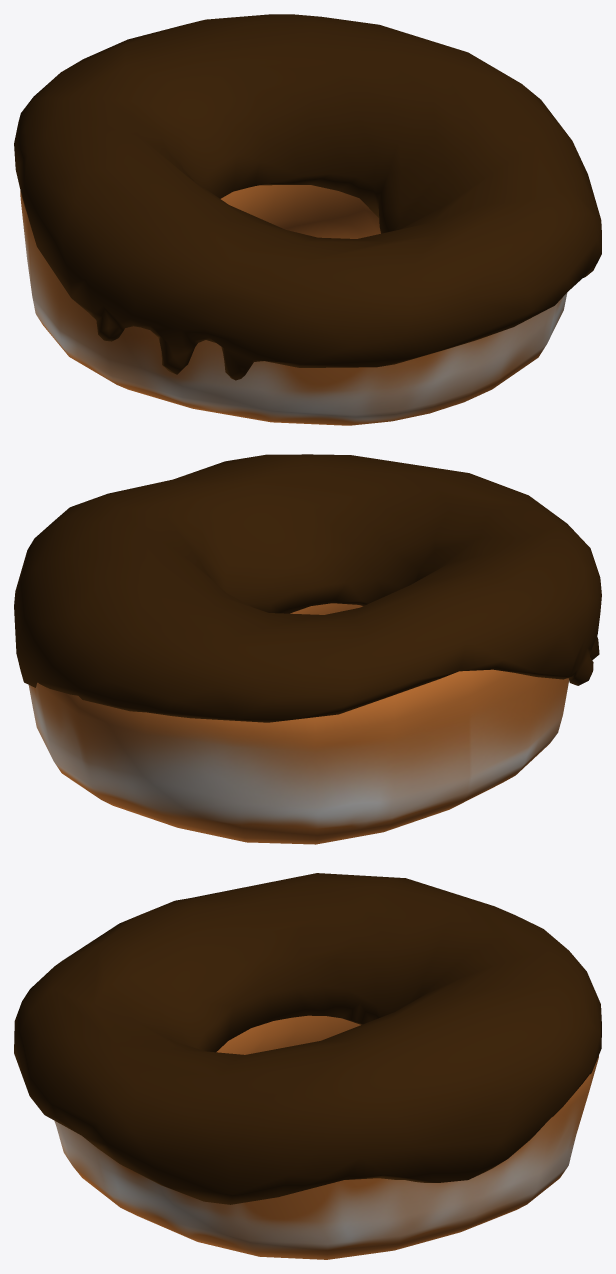
The model's file is lighdonut.gltf.
3 renders of one model, top to bottom at view 1: azimuth 30°, elevation 25°; view 2: azimuth 150°, elevation 25°; view 3: azimuth 270°, elevation 25°, orthographic. The views are drawn at different scales.
Visible parts, largest first — view 1: Icing.001, Torus.004; view 2: Icing.001, Torus.004; view 3: Icing.001, Torus.004.
Boxes of the visible parts, box(x1,y1,x2,y2) form: Icing.001: box(14, 14, 601, 380); Torus.004: box(20, 185, 567, 425); Icing.001: box(14, 454, 601, 722); Torus.004: box(28, 603, 568, 844); Icing.001: box(14, 873, 601, 1204); Torus.004: box(54, 1015, 598, 1259).
Bounding box in the file's own units: 0.2856 × 0.1233 × 0.3082.
Materials: 2 (1 with a texture image).
